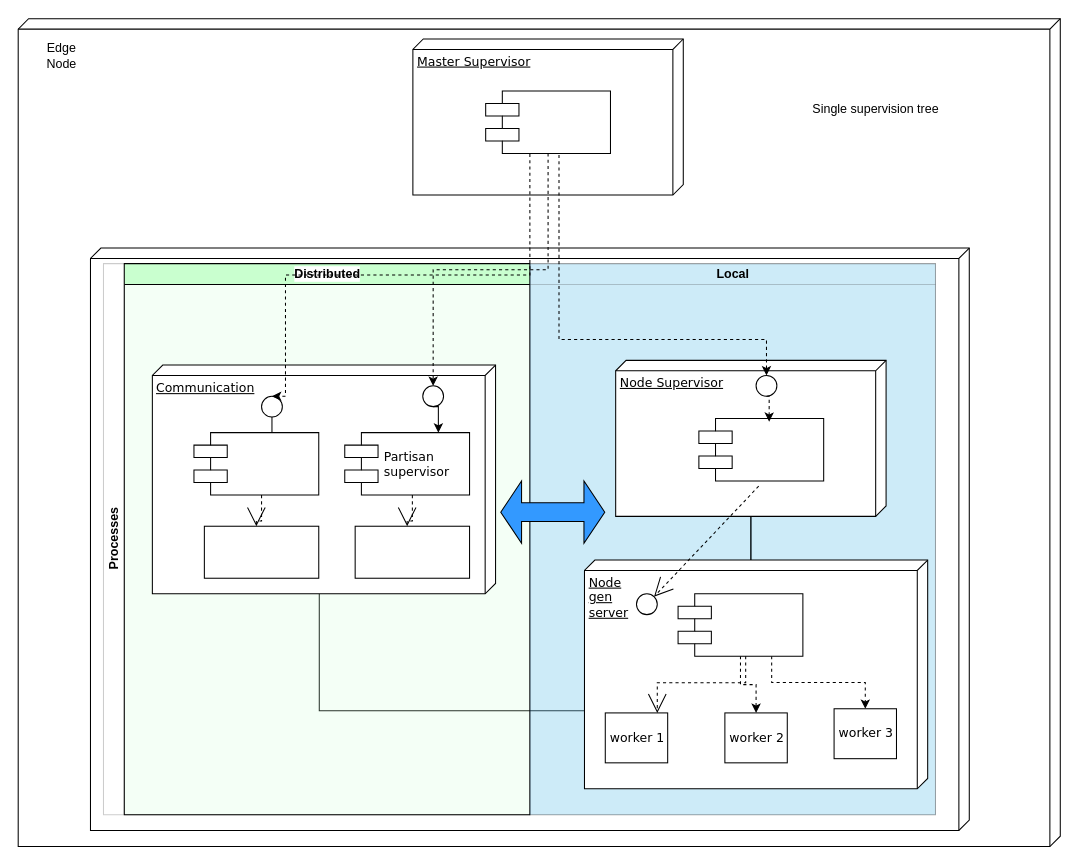
The diagram is 1078 pixels wide and 864 high, and some of its shapes have lost their labels. The shapes that lost their labels are listed below. From the top down, each one's centre as x and y in pixels, then its label:
[547,121]: Master
[256,463]: Lasp supervisor
[761,449]: Node
[261,551]: Lasp
[412,551]: Partisan
[740,624]: Worker supervisor
